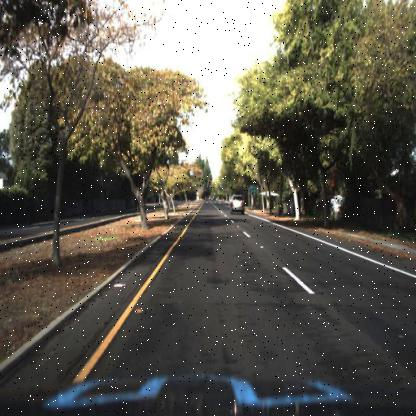car: (228, 192, 249, 218)
